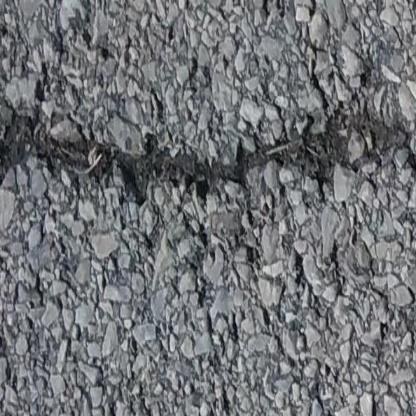Cracks: (0, 88, 416, 247)
